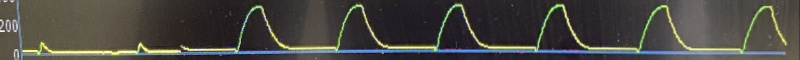normal_volume: (235, 1, 786, 59)
